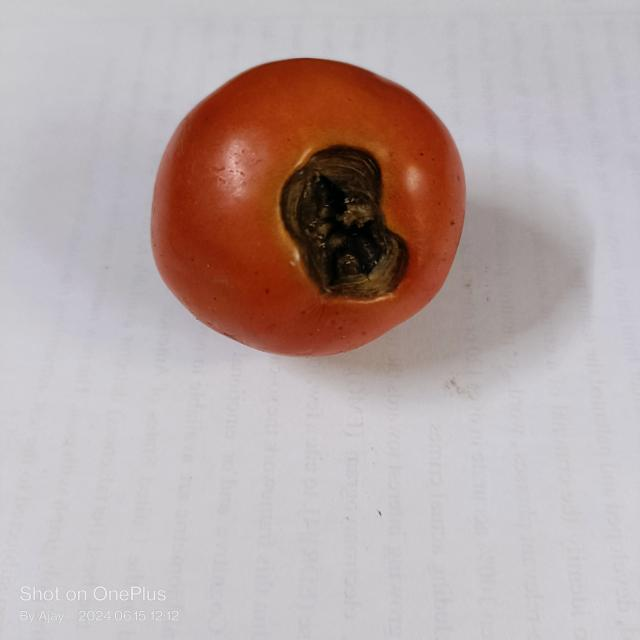Anthrocnose: (282, 141, 409, 309)
